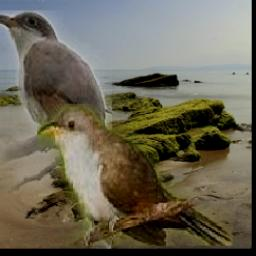Cuckoo: (38, 105, 234, 247), (0, 10, 112, 249)
